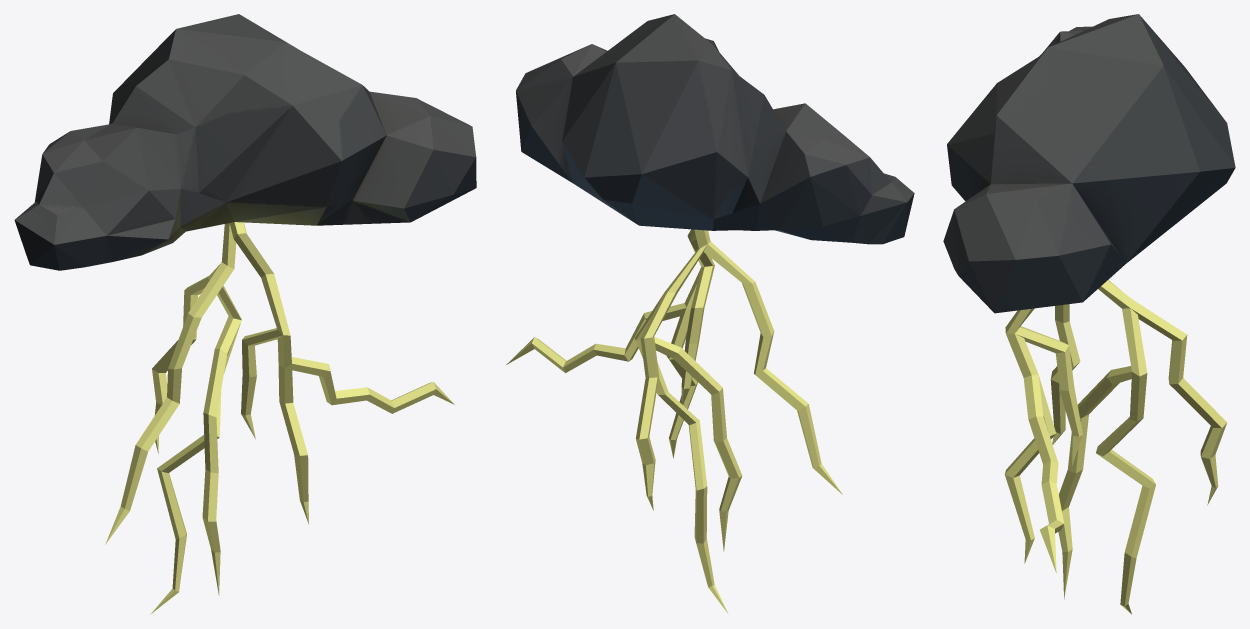
File: cloud.glb
The picture shows the model from 3 angles, left to right: view 1: azimuth 30°, elevation 25°; view 2: azimuth 150°, elevation 25°; view 3: azimuth 270°, elevation 25°; orthographic projection. The views are drawn at different scales.
Parts seen in each view (by area): view 1: lightning_bolt; view 2: lightning_bolt; view 3: lightning_bolt.
Boxes of the visible parts, box(x1,y1,x2,y2) form: lightning_bolt: box(14, 14, 476, 614); lightning_bolt: box(506, 14, 914, 613); lightning_bolt: box(943, 14, 1235, 614).
Size of the model in its own units: 2.29 by 2.93 by 1.26.
1 material, 1 textured.
